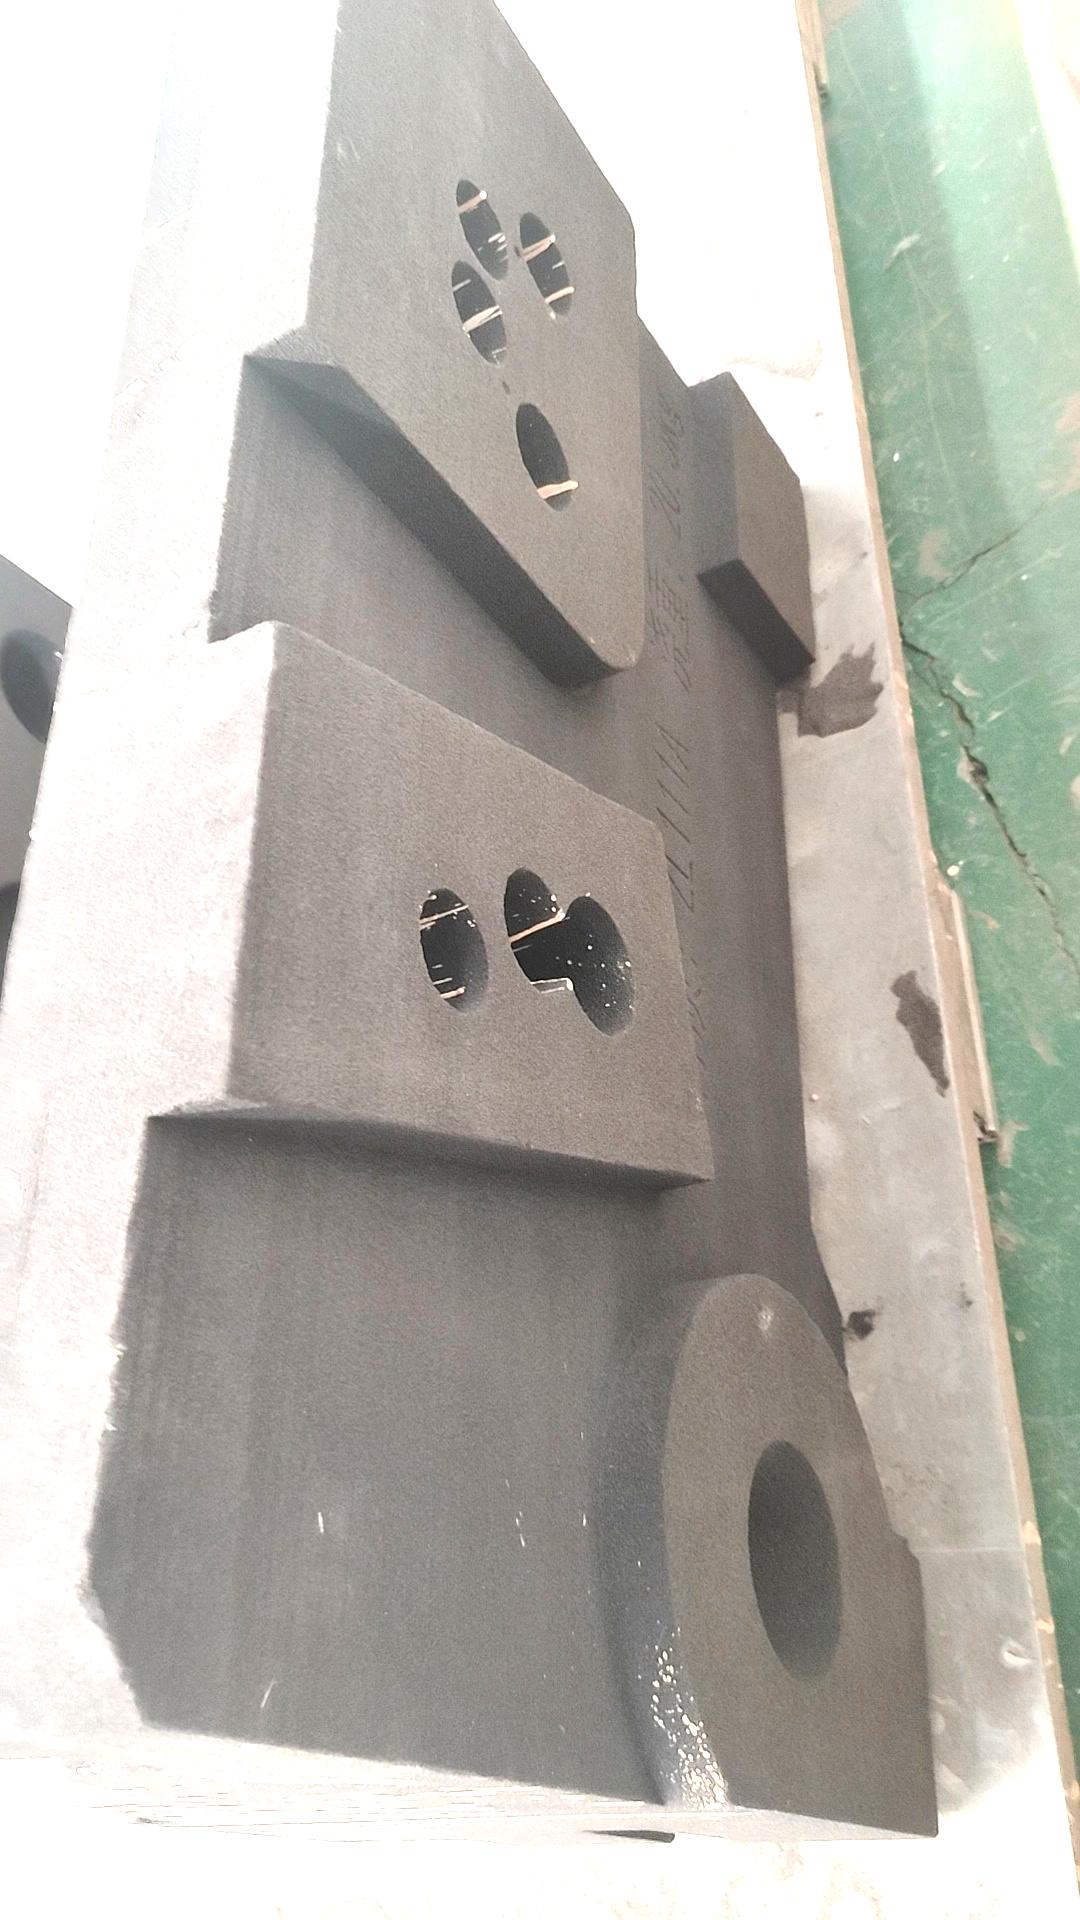pouring hole: (748, 1437, 845, 1683), (1, 629, 80, 742)
